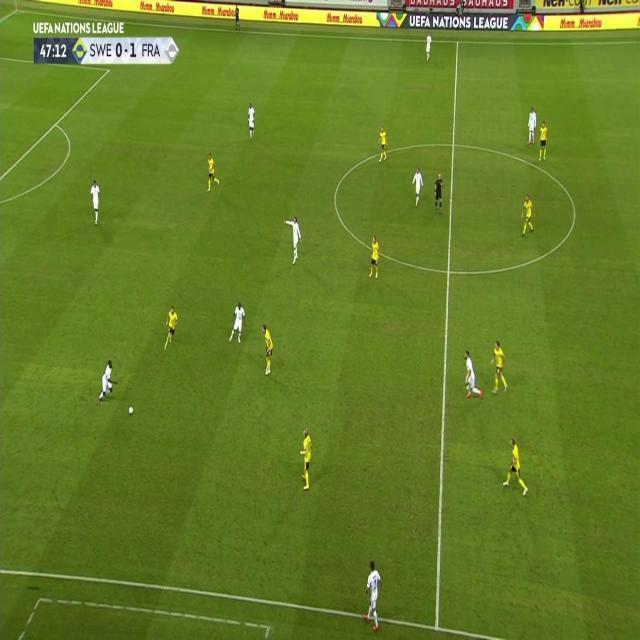ball: (127, 404, 134, 417)
player: (502, 437, 530, 497), (362, 559, 384, 632), (462, 351, 485, 401), (490, 339, 510, 395), (97, 360, 120, 405), (299, 427, 314, 493), (283, 215, 303, 264), (228, 301, 247, 344), (163, 305, 180, 353), (260, 322, 274, 376), (520, 192, 536, 238), (89, 178, 102, 226), (206, 152, 221, 193), (411, 165, 425, 208), (369, 234, 381, 280), (538, 119, 549, 162), (377, 126, 389, 164), (527, 107, 538, 145), (246, 102, 256, 140), (424, 32, 433, 62)
referee: (434, 171, 445, 215), (234, 5, 241, 31)
